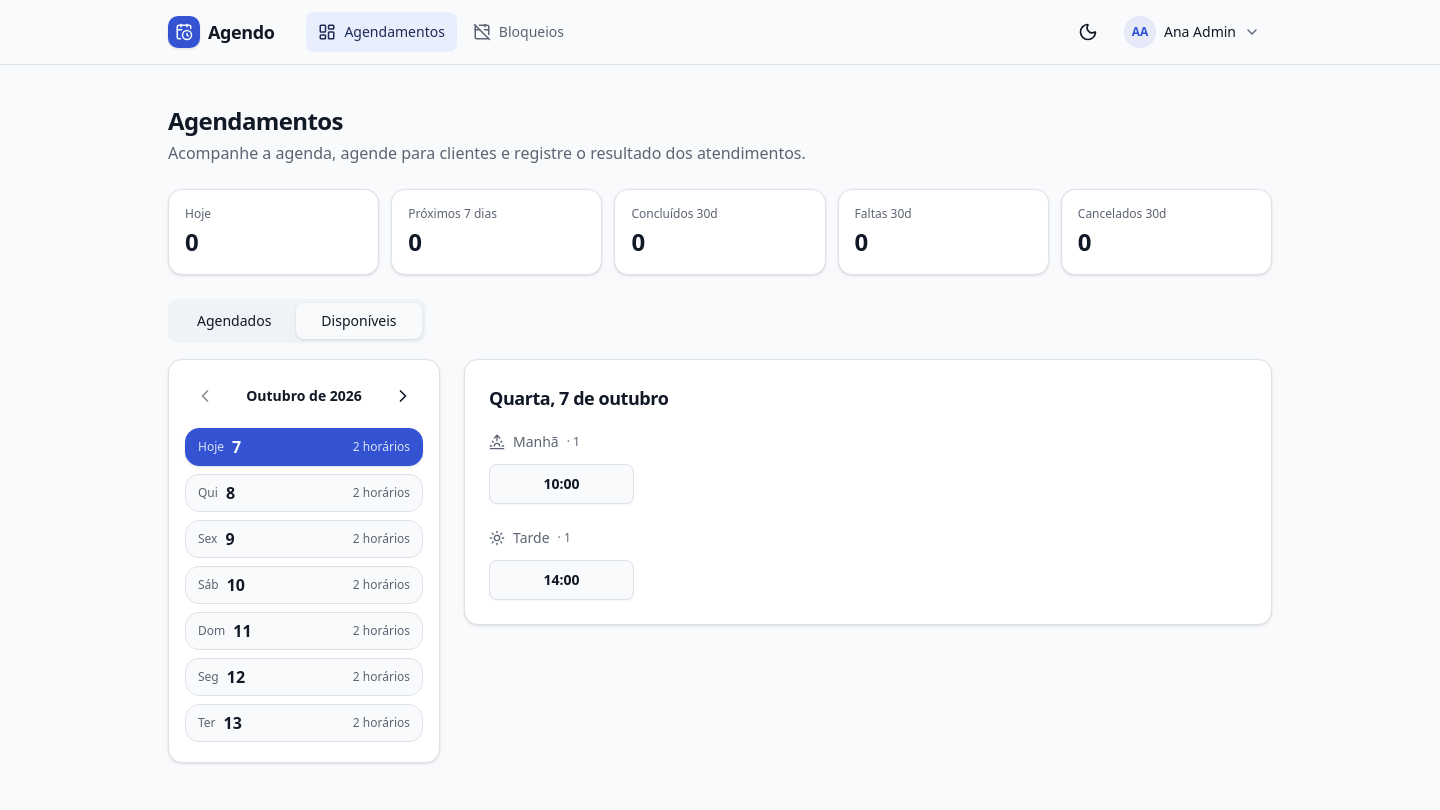
Test: admin booking for a client › asks for a client before booking
The width and height of the screenshot is (1440, 810).
Click the button "10:00": coordinates (562, 484) [489,464,634,504]
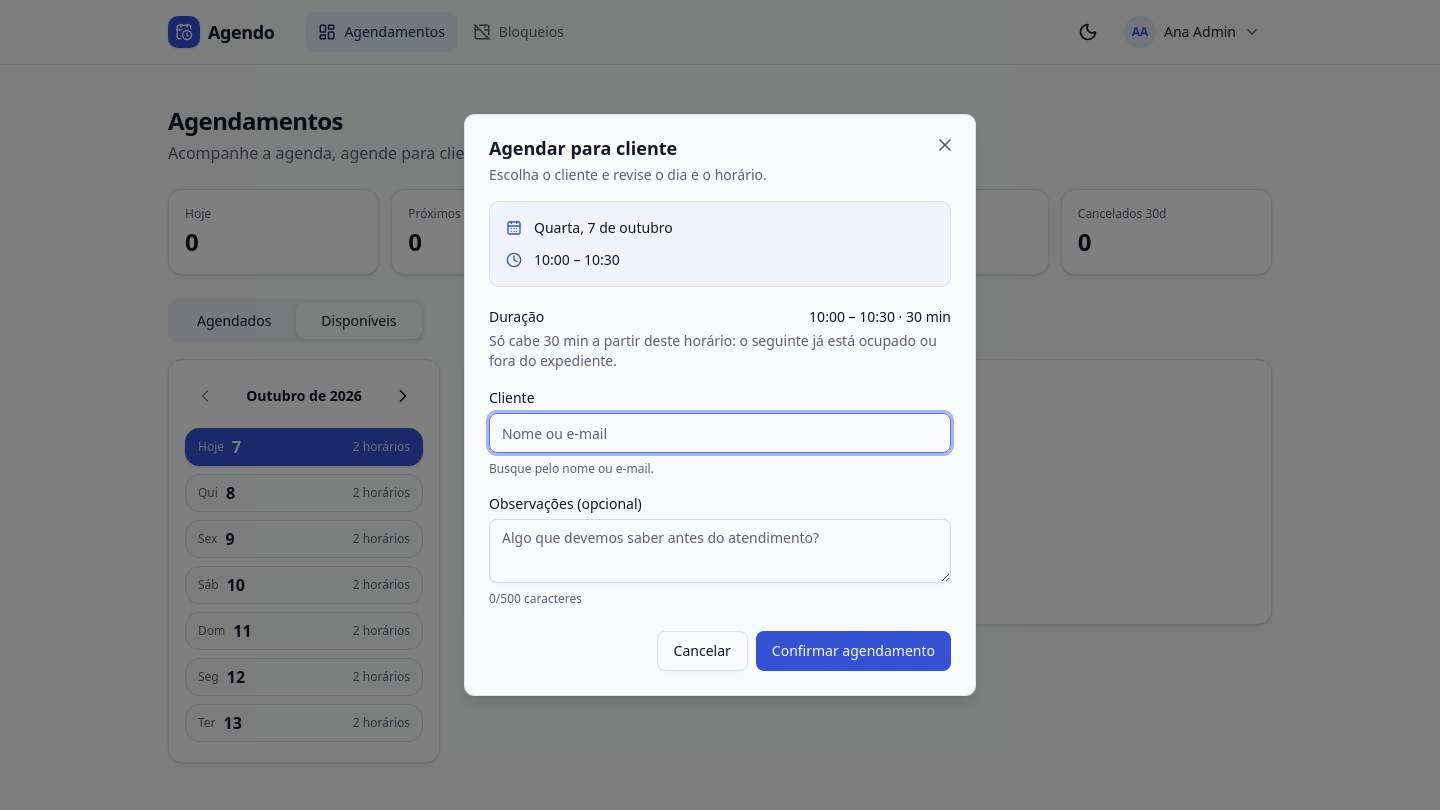
Click the button "Confirmar agendamento": coordinates (853, 651) [756,631,951,671]
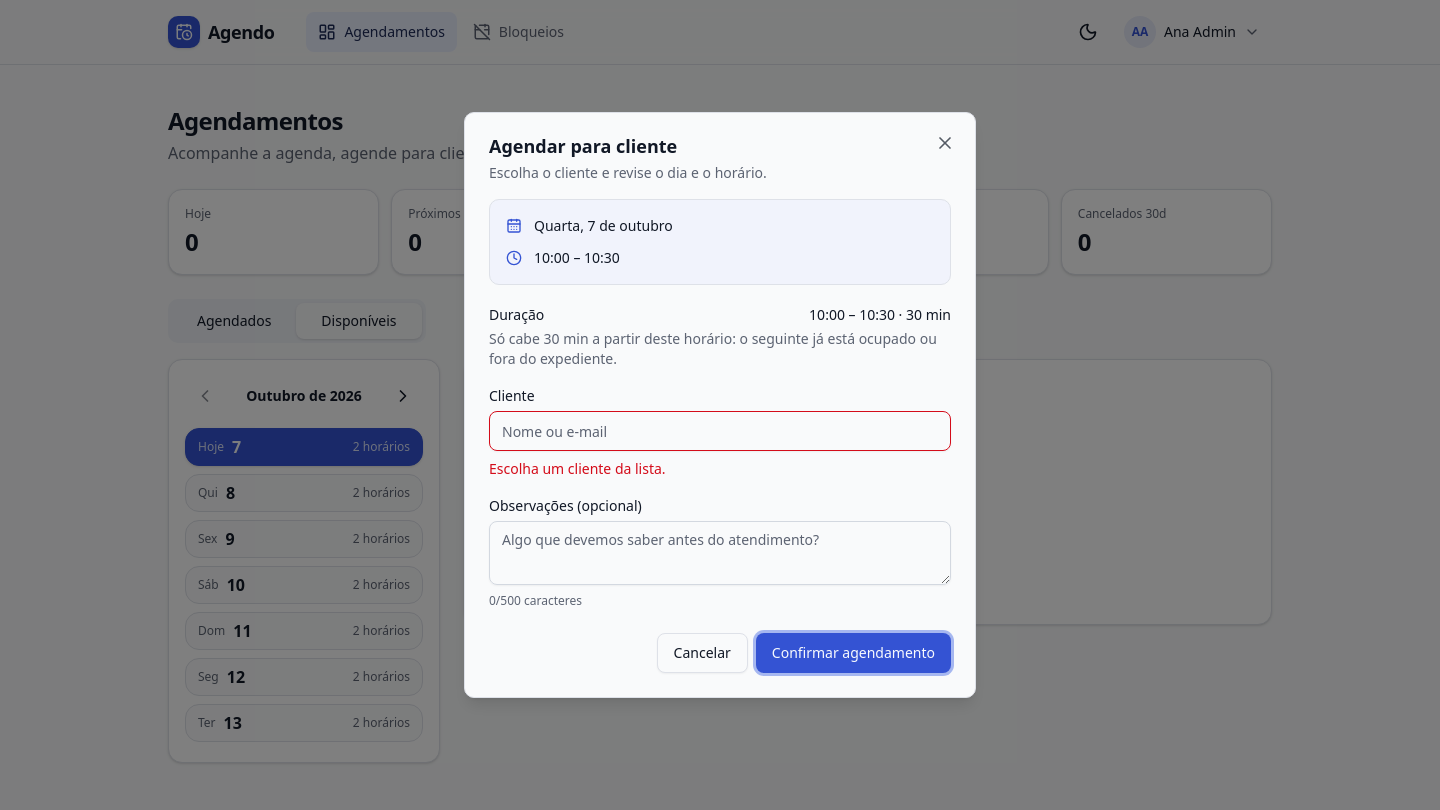
Result: the text "Escolha um cliente da lista." is shown at [489,459,666,478]
